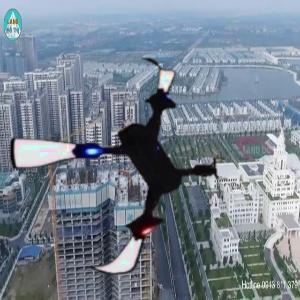drone: (4, 53, 233, 282)
